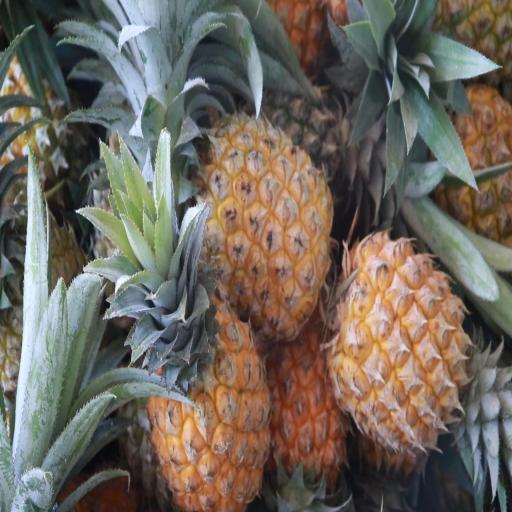Pineapple - v8 v1: (335, 234, 483, 453), (147, 263, 270, 512), (197, 114, 333, 334), (267, 337, 352, 512)
